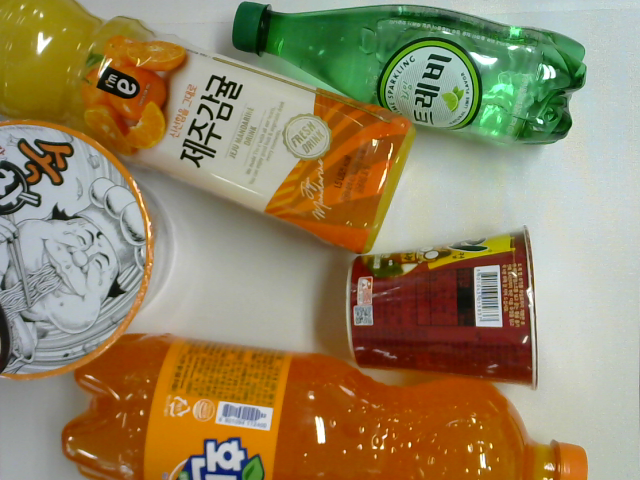Hejangchan: (1, 117, 176, 383)
Hwanta_Orange_1.5L: (60, 334, 589, 480)
Jeju_Tangerine_1.5L: (1, 1, 417, 260)
Raccoon: (350, 223, 540, 394)
Treviraim_500ml: (228, 1, 589, 154)
